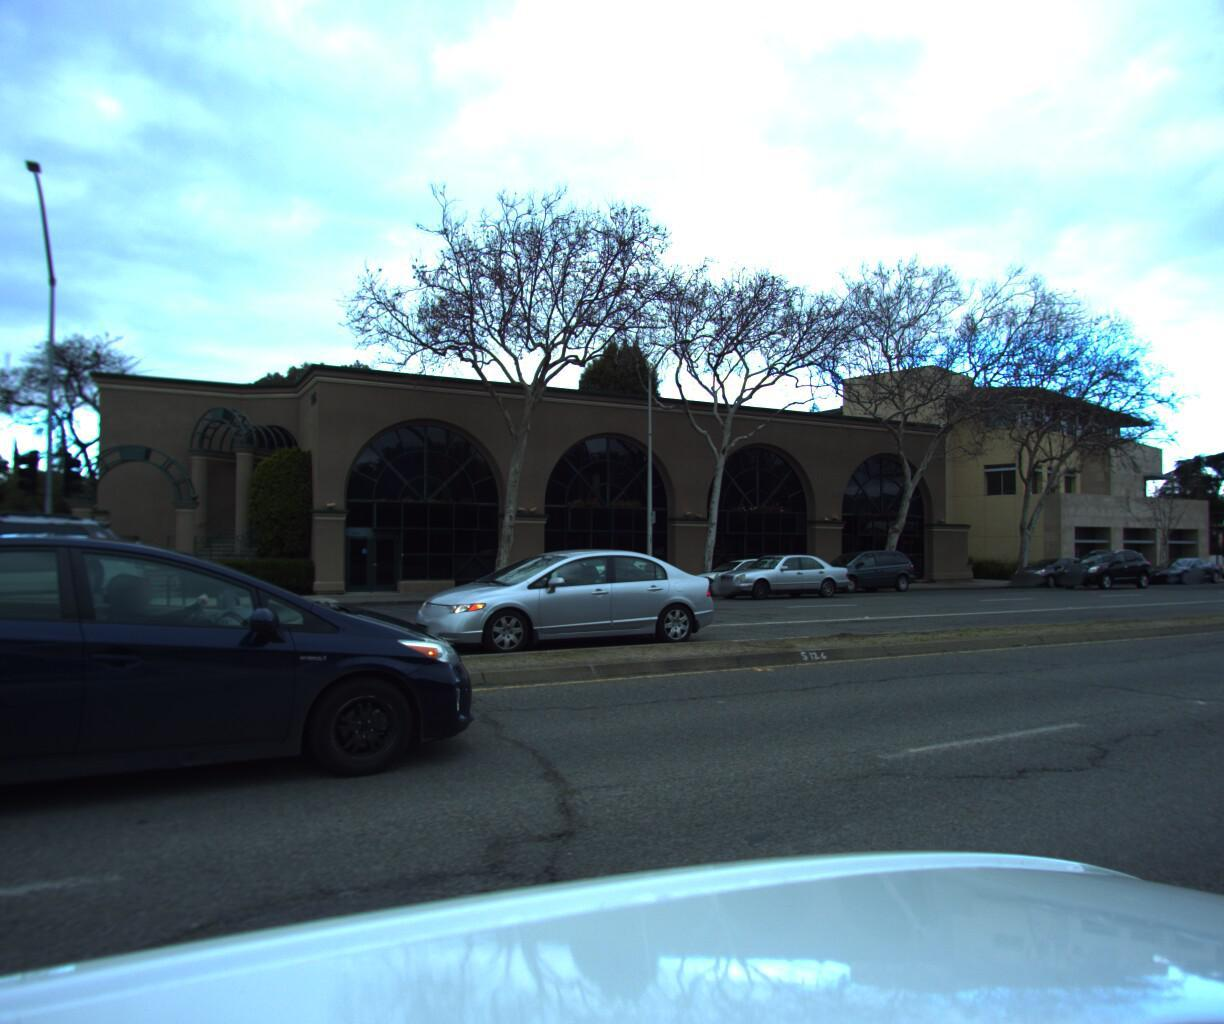bus: (1187, 501, 1224, 584), (0, 391, 7, 739)
car: (0, 537, 495, 907), (402, 543, 735, 667), (0, 502, 174, 731), (514, 545, 660, 604), (707, 549, 849, 598), (795, 544, 920, 594), (674, 552, 802, 599), (1051, 540, 1149, 586), (998, 550, 1091, 587), (1134, 549, 1221, 583)
